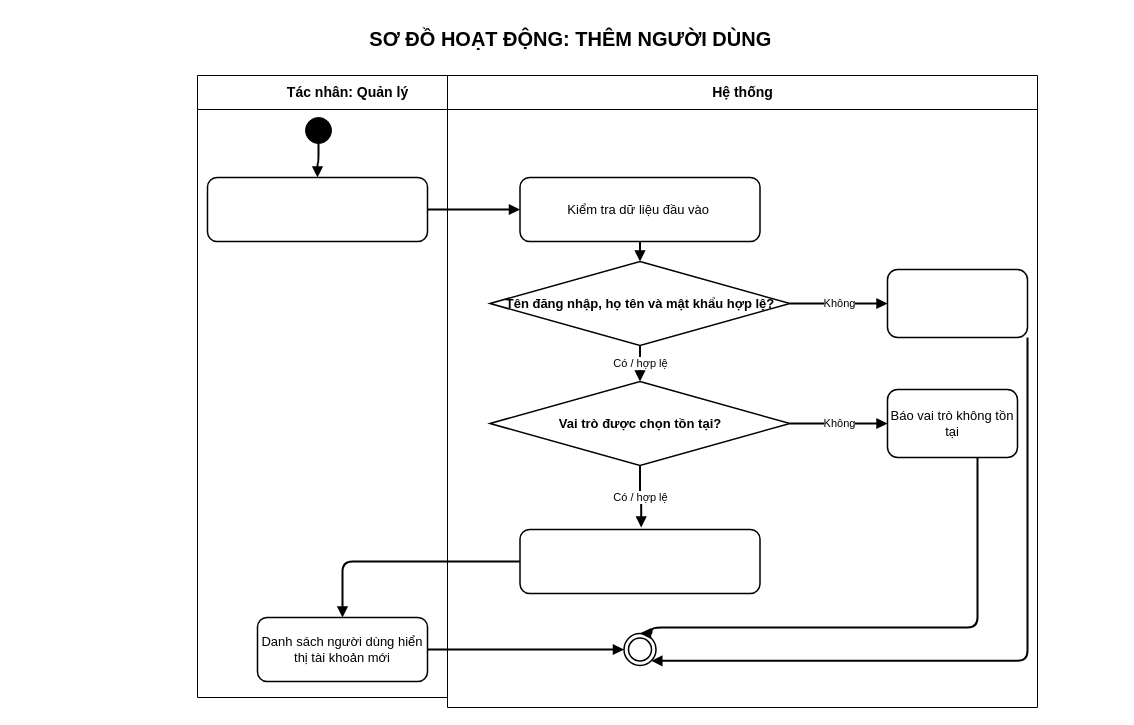
Some shapes in this 1134 by 725 pixel diagram are drawn without their labels. The centre of each missing label's shape, as x and y in pixels:
Báo dữ liệu không hợp lệ; mật khẩu phải có ít nhất 8 ký tự: (x=957, y=303)
Bấm thêm nhân viên và nhập tài khoản, họ tên, liên hệ, vai trò, mật khẩu: (x=317, y=209)
Tạo tài khoản mới với trạng thái ACTIVE: (x=639, y=561)
